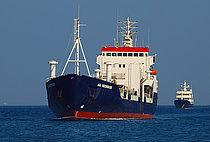Ship: (43, 15, 159, 122)
